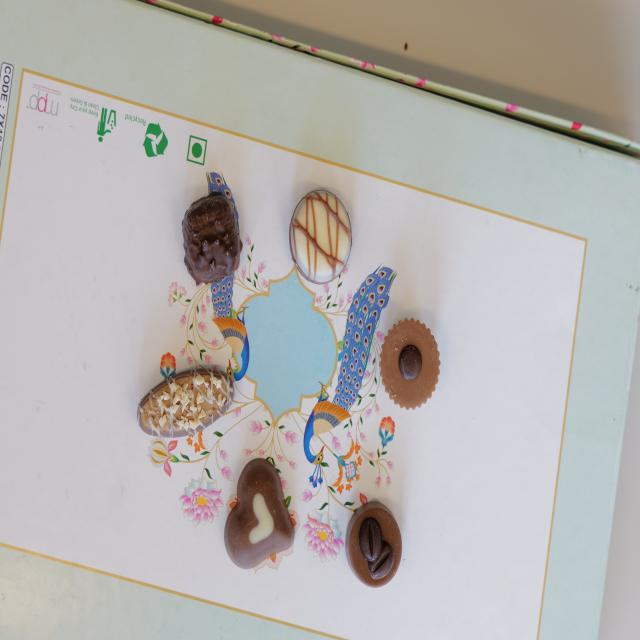Amandina: (139, 366, 233, 436)
Arabia: (345, 498, 403, 588)
Creme_brulee: (287, 188, 352, 286)
Noblesse: (379, 318, 441, 409)
Passion_au_lait: (223, 456, 297, 571)
Tentation_noir: (182, 196, 240, 284)
